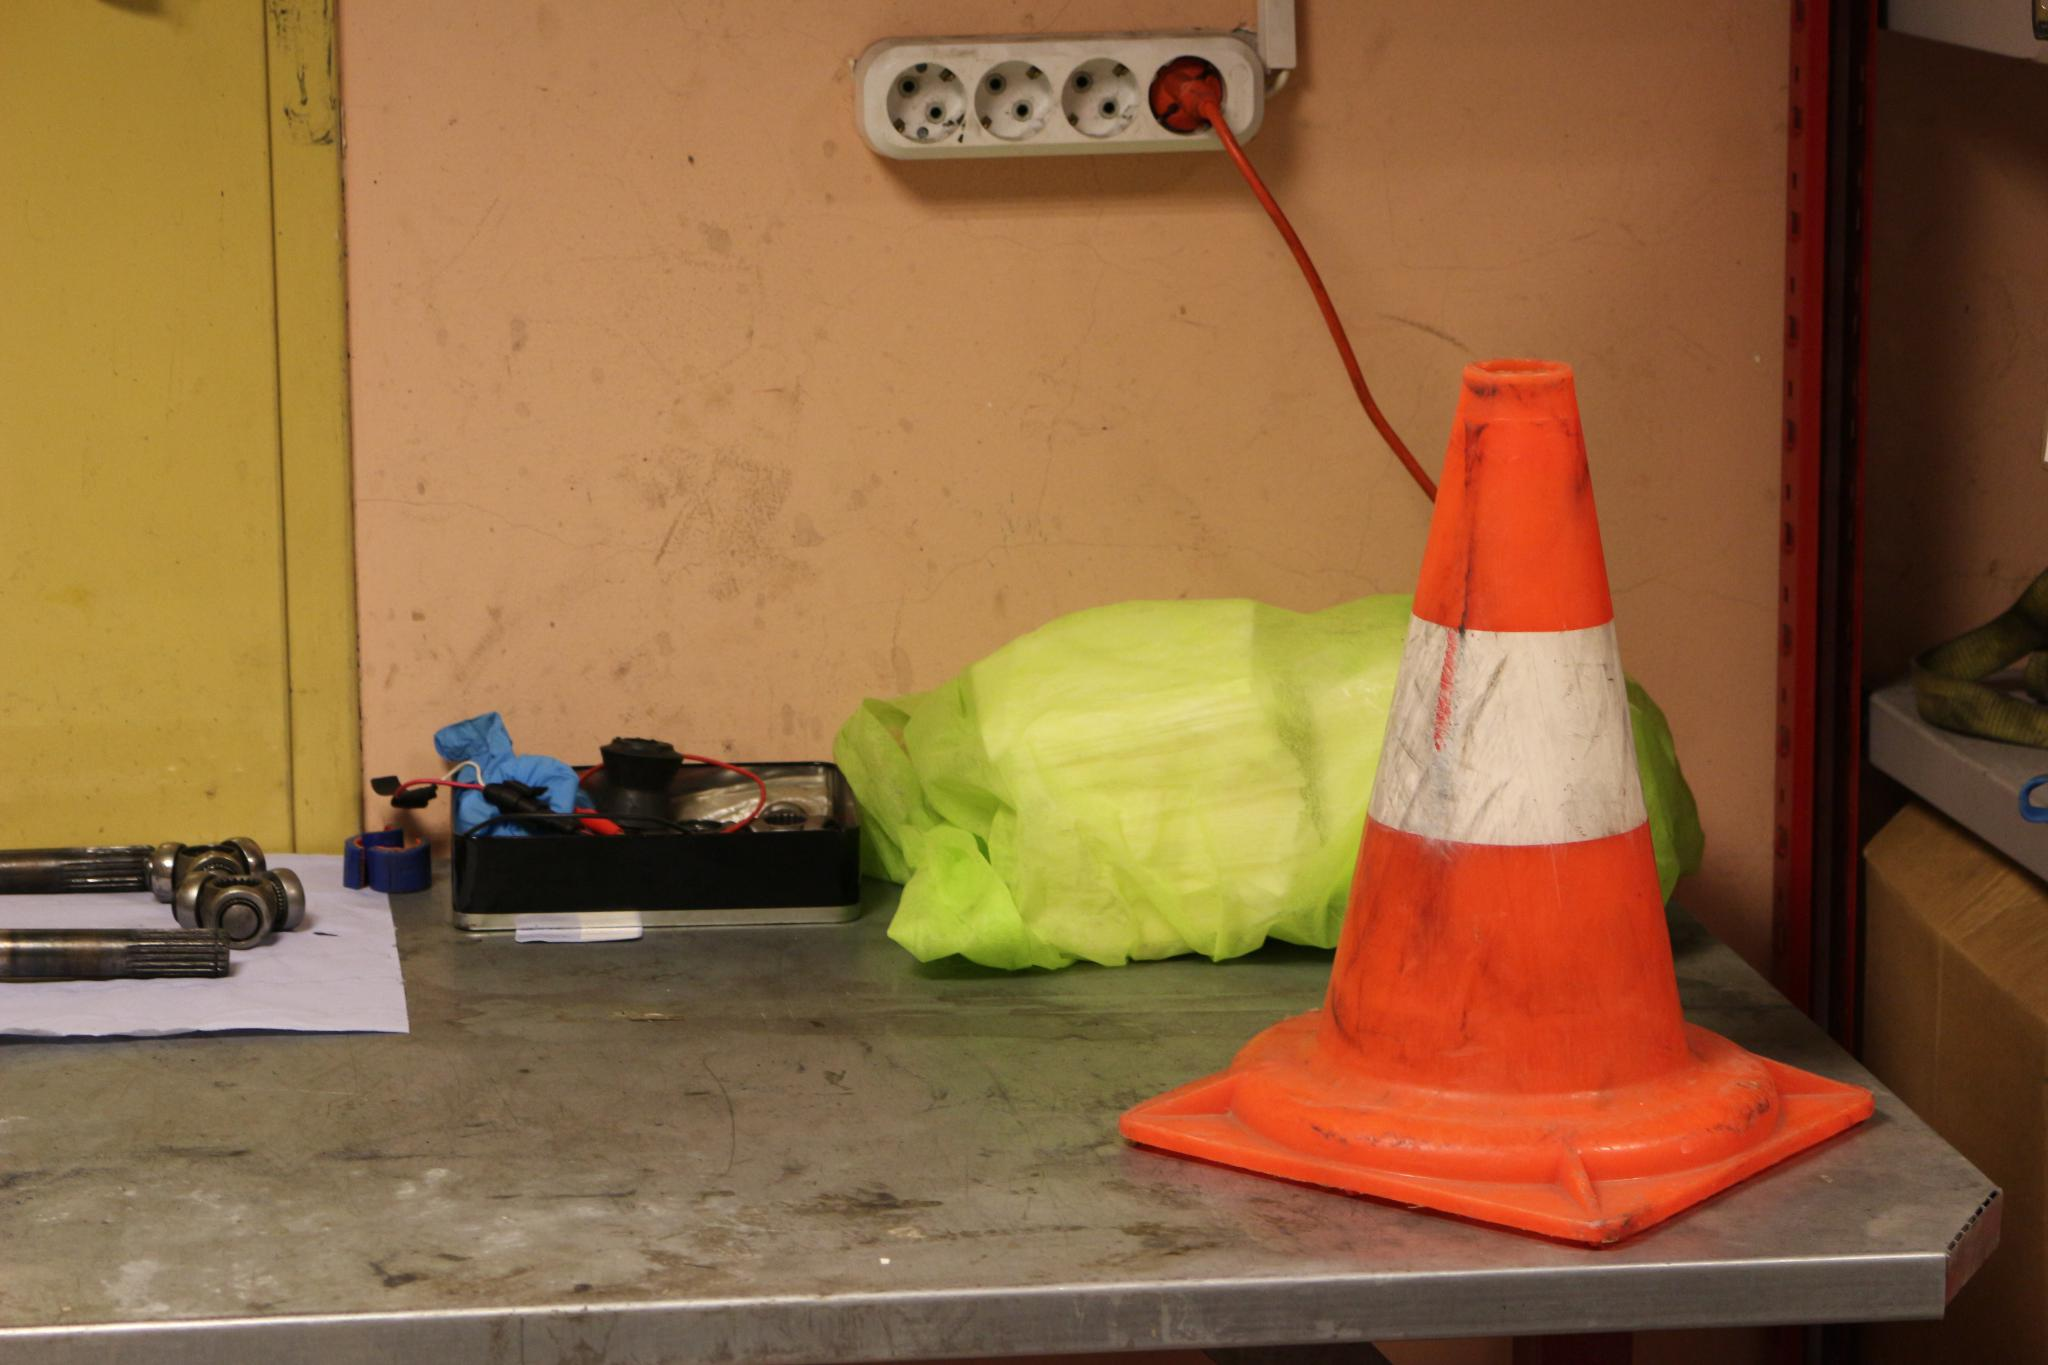Orange_Cone: (1201, 346, 1809, 1193)
